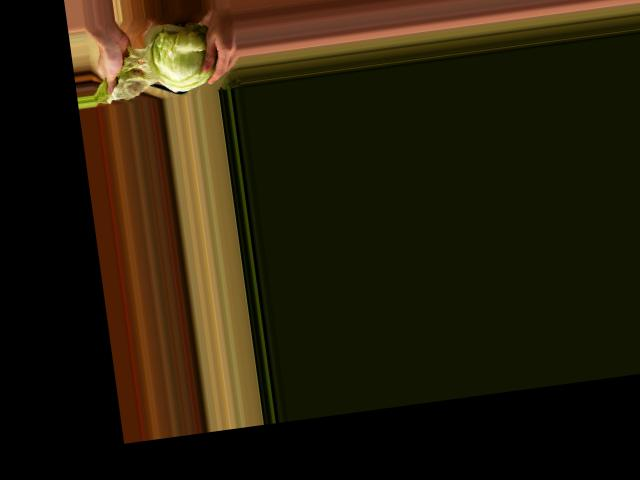lettuce: (126, 13, 222, 100)
